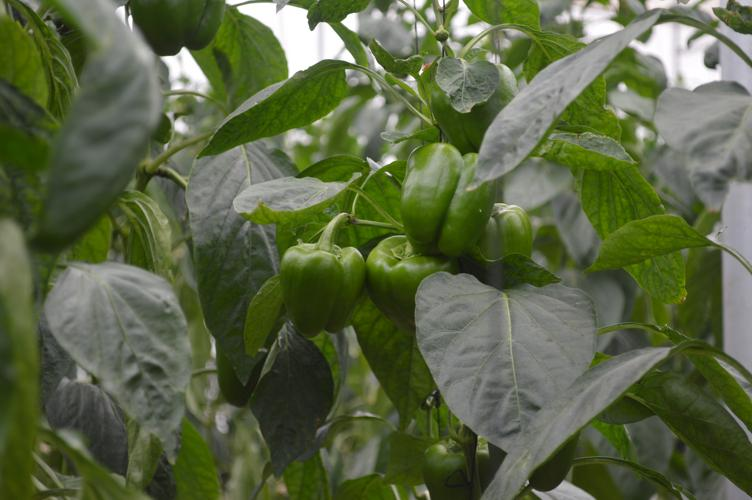BellPepper: (398, 140, 498, 262), (363, 225, 453, 340), (277, 235, 364, 340), (414, 436, 492, 500), (482, 199, 535, 273)
